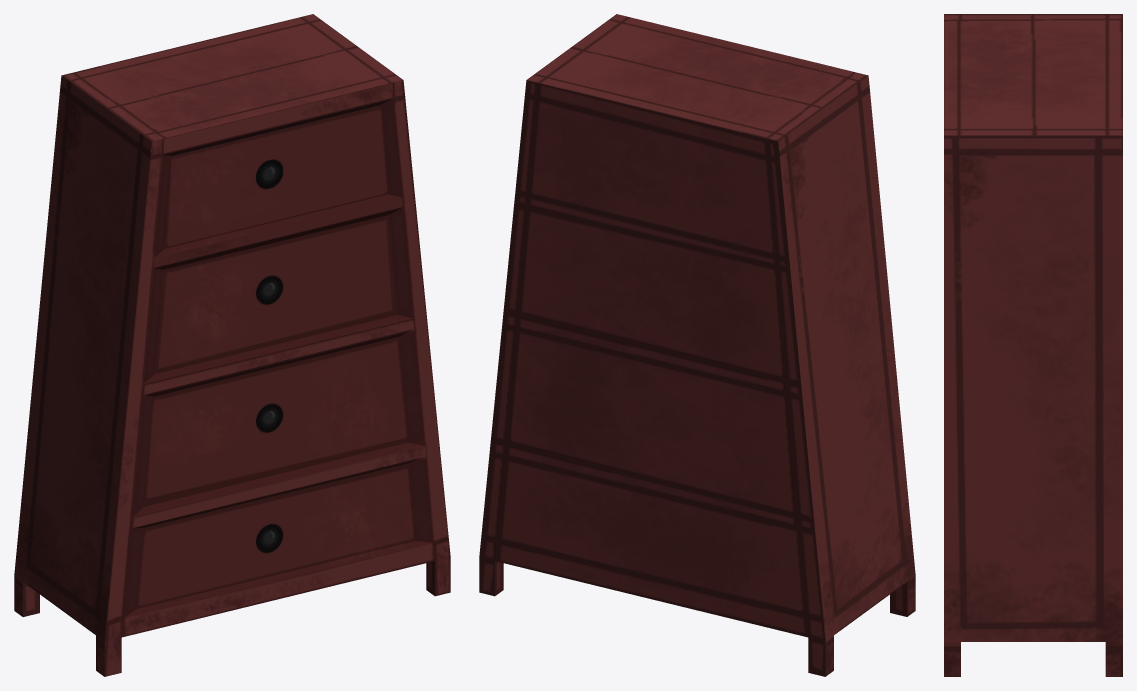
Rendered from buro.fbx.
3 views of the same model, side by side, from view 1: azimuth 30°, elevation 25°; view 2: azimuth 150°, elevation 25°; view 3: azimuth 270°, elevation 25° (orthographic).
Visible parts, largest first — view 1: Cajones:pCube1; view 2: Cajones:pCube1; view 3: Cajones:pCube1.
Boxes of the visible parts, left/top/right/bottom form: Cajones:pCube1: left=14, top=14, right=450, bottom=676; Cajones:pCube1: left=479, top=14, right=915, bottom=676; Cajones:pCube1: left=944, top=14, right=1122, bottom=676.
Bounding box in the file's own units: 28.05 × 40.58 × 12.68.
